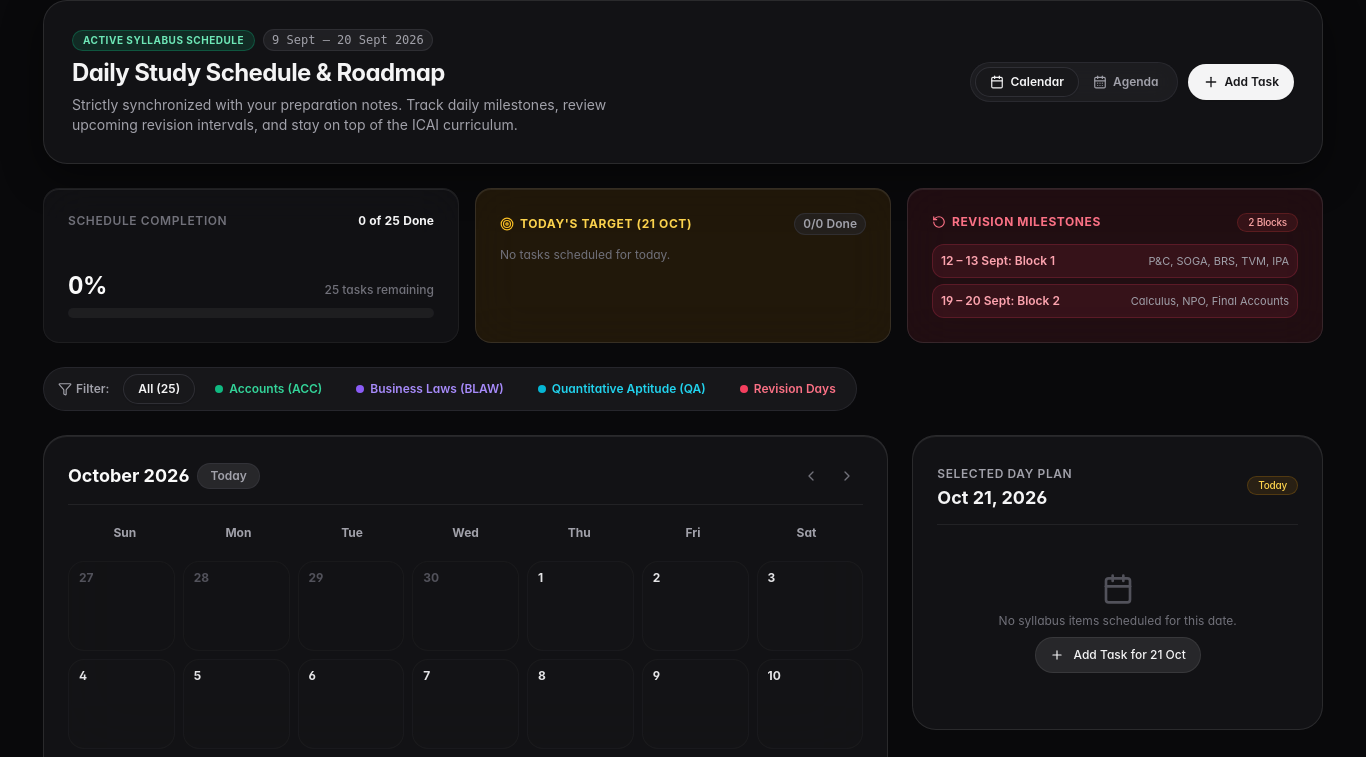
Study Schedule & Interactive Calendar Integration › ScheduleView UI Component › switches to Timeline / Agenda view and renders day sections
// Click Agenda button
Click the button "Agenda" at coordinates (1126, 82), box [1079,68,1173,96]
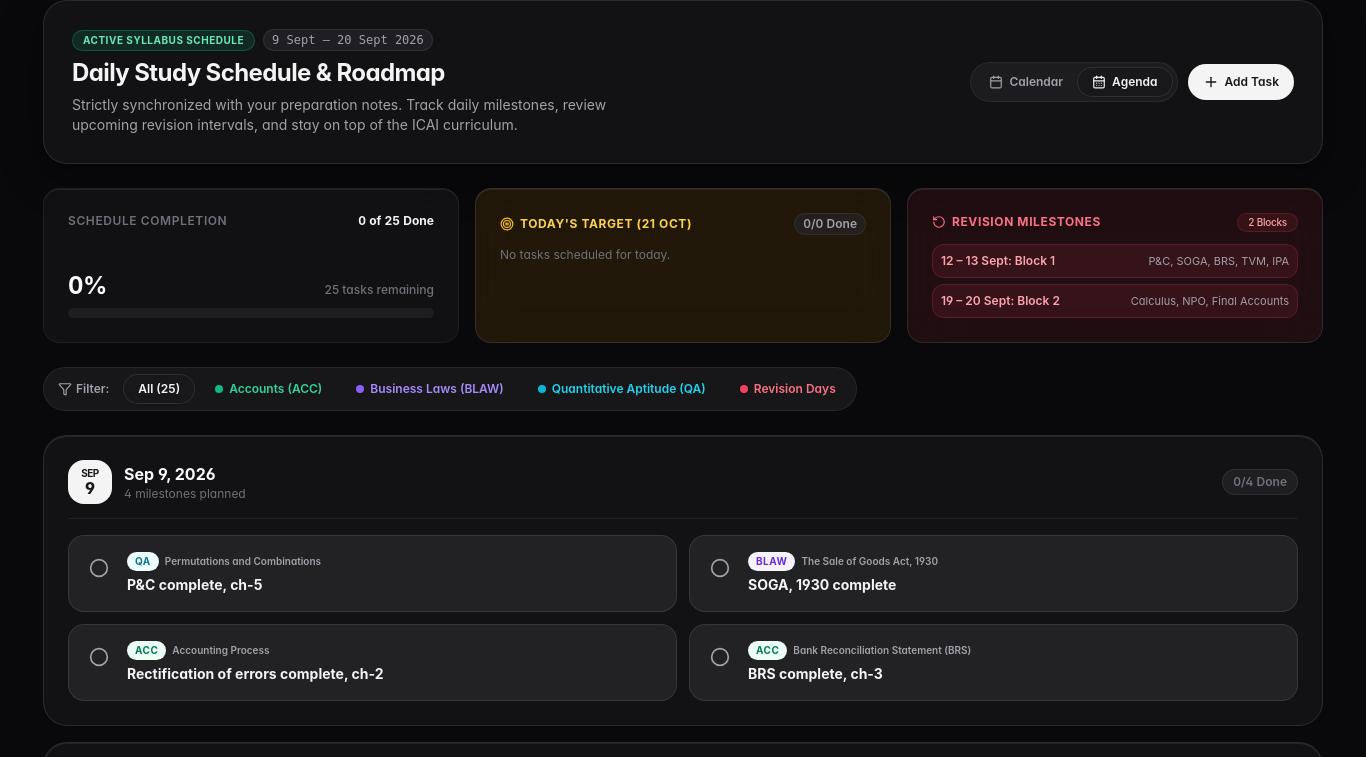
Expected: the heading "Sep 9, 2026" is shown, [124,462,216,486]
Expected: the heading "P&C complete, ch-5" is shown, [127,576,262,592]
Expected: the heading "SOGA, 1930 complete" is shown, [748,576,896,592]
